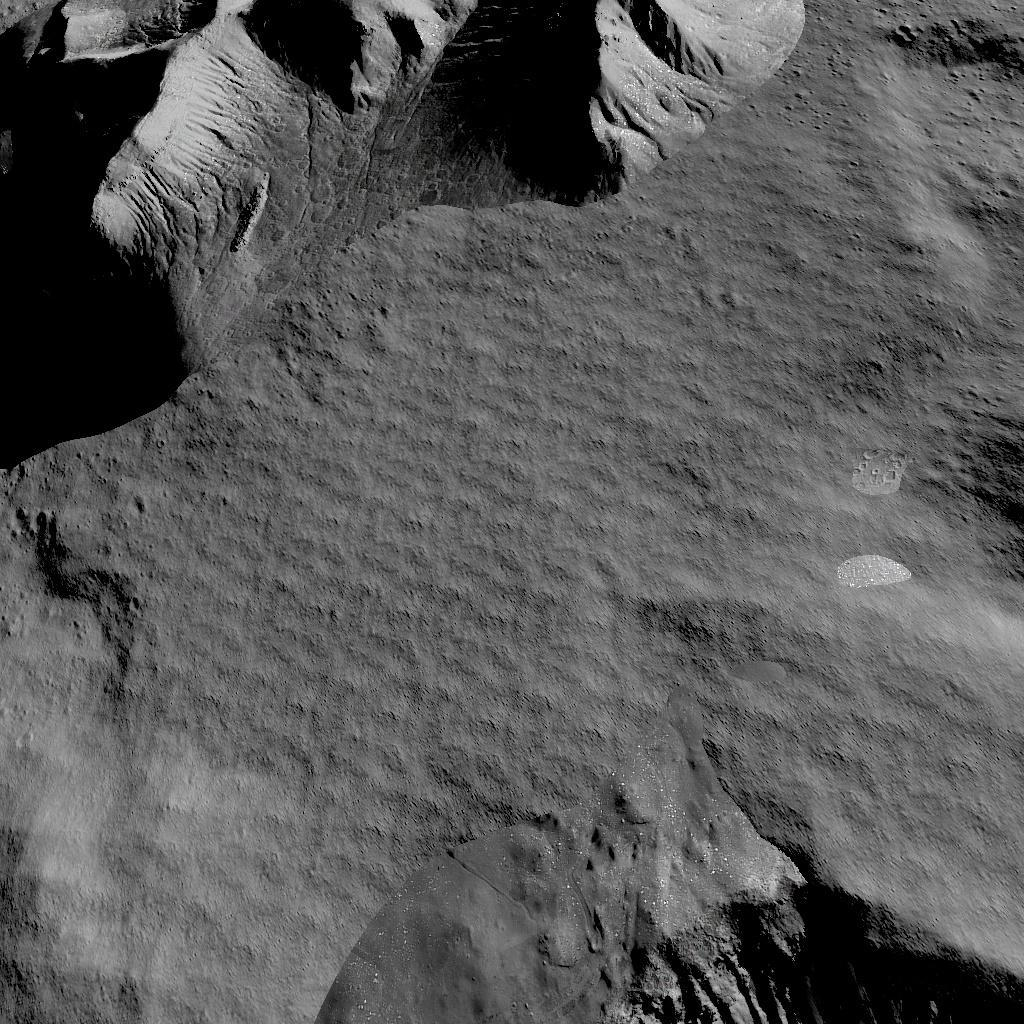Boulders: (0, 0, 805, 470)
Crater: (318, 810, 1024, 1024), (943, 408, 1024, 596), (878, 12, 1024, 88)
Plan surface: (321, 485, 933, 798), (0, 482, 306, 1024), (821, 100, 1024, 398)
